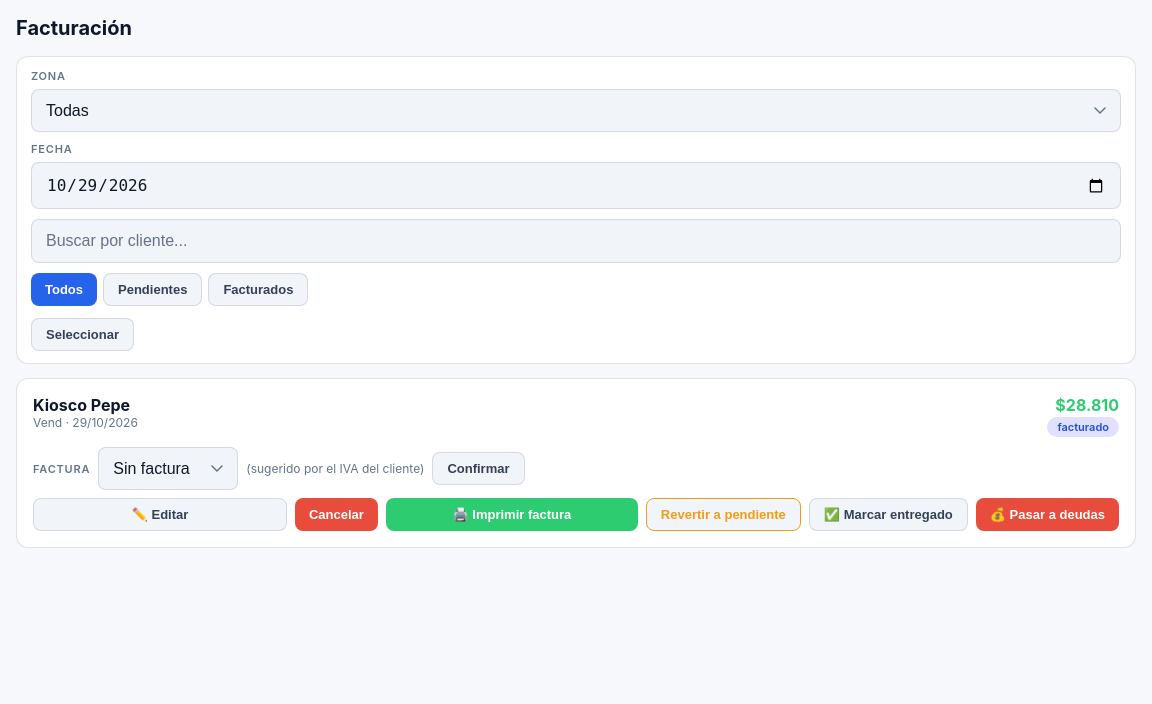
Test case: REQ-VTA Facturación (edición) › AC-VTA-2 el renglón congelado se muestra como "2 Display (32 u.)" y el precio del bulto
The image size is (1152, 704).
Click the button "✏️ Editar": click(160, 514) [33,498,287,531]
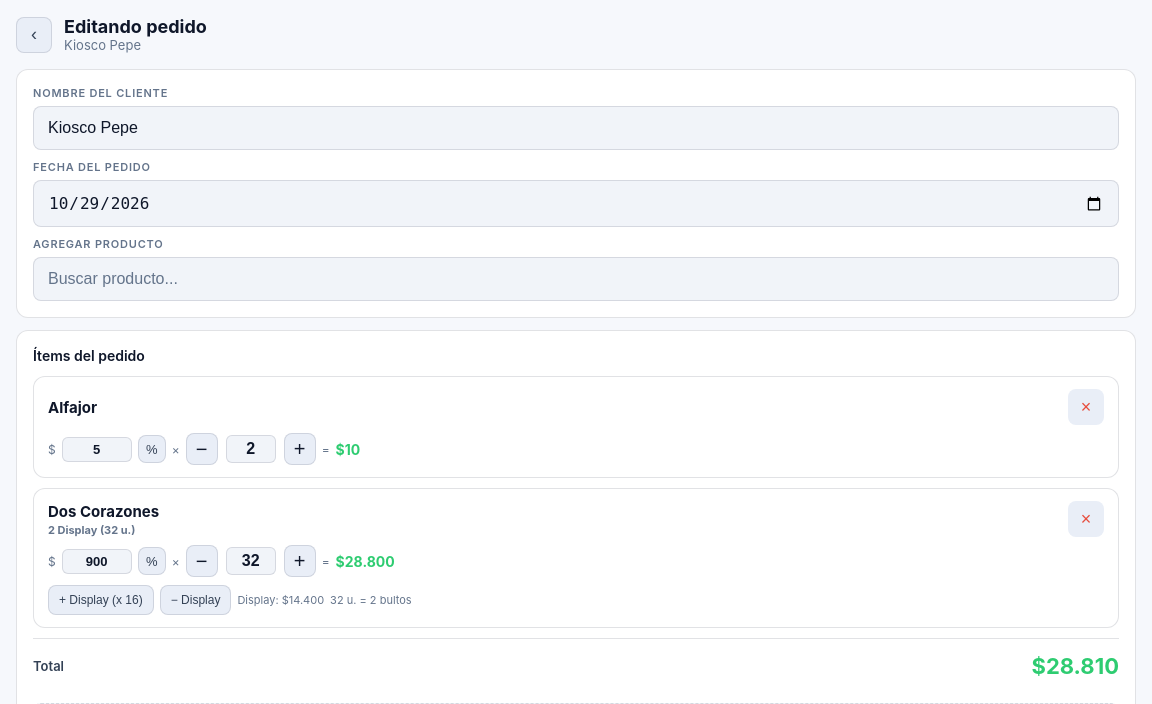
Result: the text with test id "texto-bultos" reads "2 Display (32 u.)" at [48,522,135,536]
Result: the button with test id "bulto-mas" reads "+ Display (x 16)" at [48,585,154,615]
Result: the text with test id "bulto-precio" shows "14.400" at [289,593,324,607]
